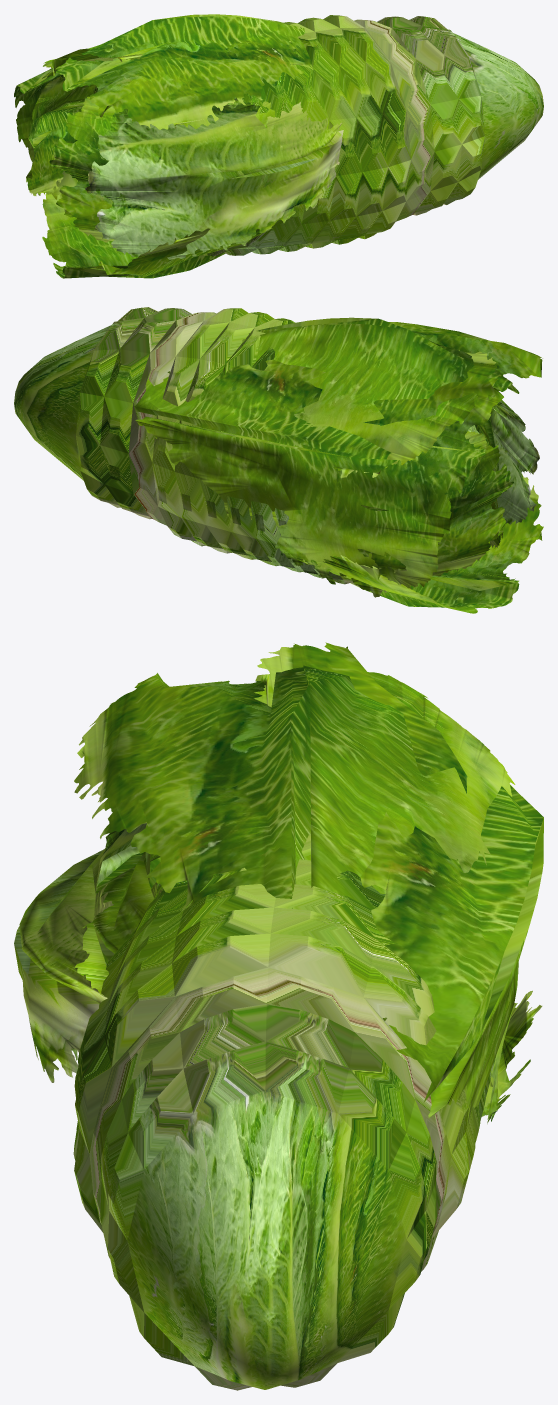
File: Lettuce.fbx
The picture shows the model from 3 angles, top to bottom: view 1: azimuth 30°, elevation 25°; view 2: azimuth 150°, elevation 25°; view 3: azimuth 270°, elevation 25°; orthographic projection. The views are drawn at different scales.
Parts seen in each view (by area): view 1: LettuceMainPart, Group_001, Group_002, Group_004, Group_005, Group_006, Group_003; view 2: Group_003, LettuceMainPart, Group_002, Group_004, Group_006, Group_001, Group_005; view 3: LettuceMainPart, Group_002, Group_003, Group_001, Group_005, Group_004.
Part boxes in pixels (x1,y1,x2,y2): LettuceMainPart: [93, 15, 543, 255]; Group_001: [85, 99, 343, 259]; Group_002: [43, 14, 322, 129]; Group_004: [42, 193, 273, 278]; Group_005: [49, 96, 275, 242]; Group_006: [26, 76, 95, 195]; Group_003: [14, 48, 142, 199]; Group_003: [135, 350, 503, 597]; LettuceMainPart: [14, 307, 479, 586]; Group_002: [221, 317, 542, 478]; Group_004: [279, 474, 543, 613]; Group_006: [357, 431, 513, 576]; Group_001: [490, 400, 539, 524]; Group_005: [475, 417, 503, 548]; LettuceMainPart: [73, 834, 496, 1390]; Group_002: [74, 665, 515, 927]; Group_003: [254, 642, 543, 1123]; Group_001: [14, 823, 146, 1082]; Group_005: [92, 852, 162, 963]; Group_004: [481, 990, 542, 1116].
Size of the model in its own units: 10.27 by 5.24 by 5.06.
